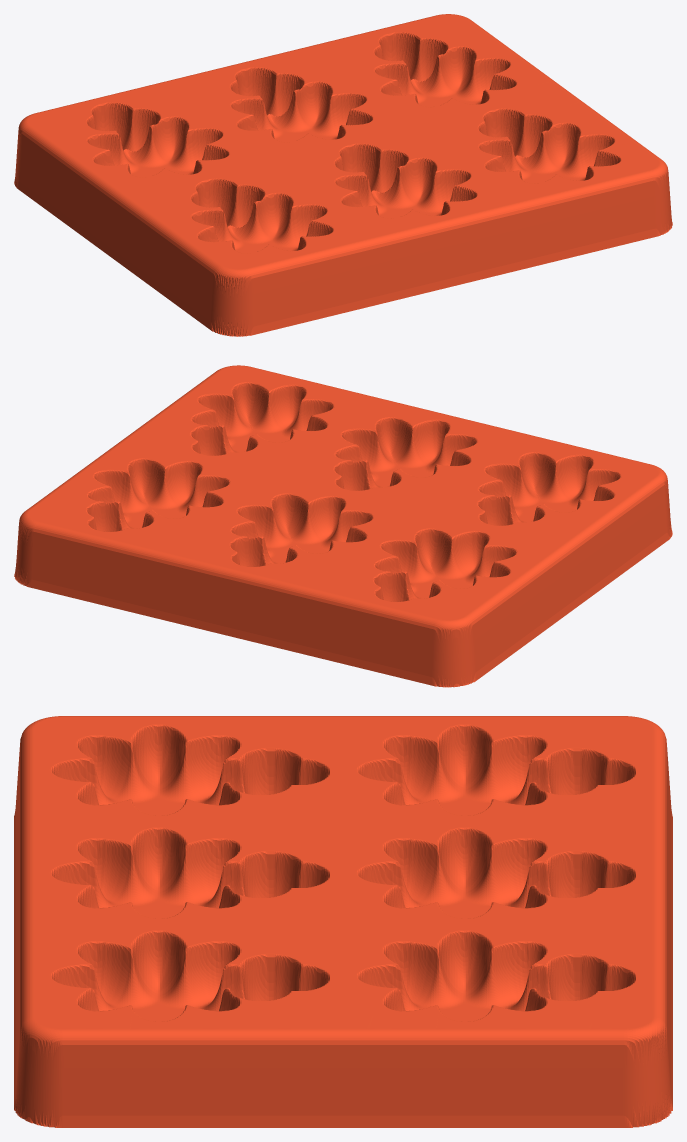
The model's file is mold.glb.
3 views of the same model, one above another, from view 1: azimuth 30°, elevation 25°; view 2: azimuth 150°, elevation 25°; view 3: azimuth 270°, elevation 25° (orthographic). The views are drawn at different scales.
Visible parts, largest first — view 1: geometry_0; view 2: geometry_0; view 3: geometry_0.
Boxes of the visible parts, x1=… form: geometry_0: x1=14, y1=14, x2=672, y2=336; geometry_0: x1=14, y1=365, x2=672, y2=687; geometry_0: x1=14, y1=716, x2=672, y2=1127.
Size of the model in its own units: 0.1442 by 0.0185 by 0.1222.
